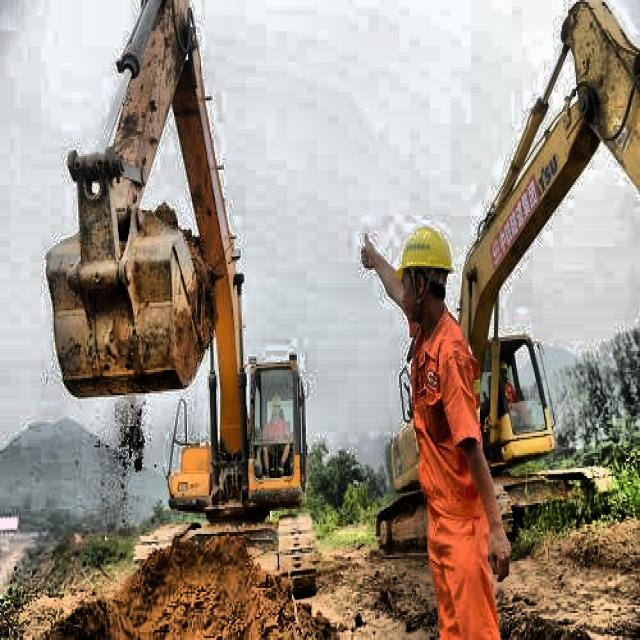helmet: (391, 212, 458, 337)
